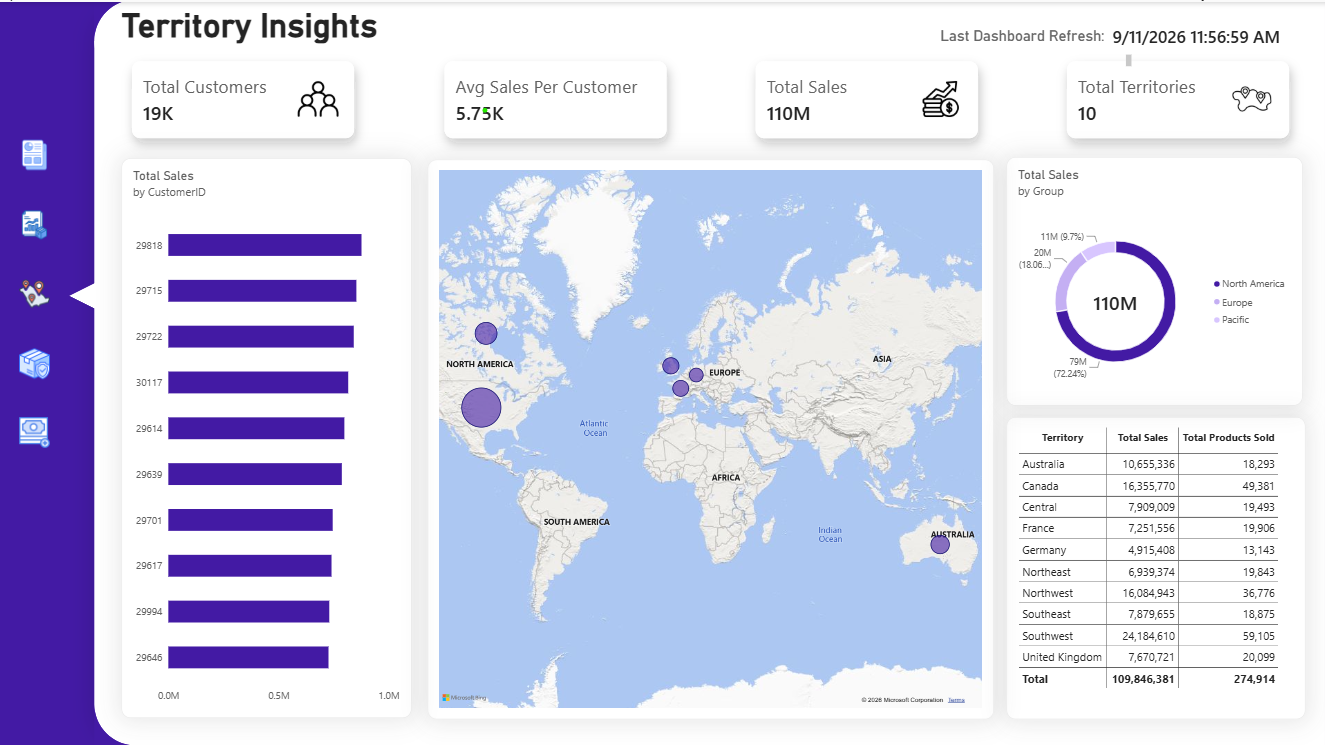

The dashboard page shown, as its layout file describes it:
{"tool":"powerbi","page":{"name":"Territory Insights","canvas":[1920,1080],"ordinal":2},"visuals":[{"type":"cardVisual","fields":{"Data":["DAX_Measures.Total Sales"]},"box":[1071,61.9,370,160],"z":0},{"type":"cardVisual","fields":{"Data":["DAX_Measures.Total Customers"]},"box":[169,61.7,370,160.3],"z":1000},{"type":"cardVisual","fields":{"Data":["DAX_Measures.Avg Sales Per Customer"]},"box":[620,61.9,370,160],"z":2000},{"type":"clusteredBarChart","fields":{"Category":["Orders.CustomerID"],"Y":["DAX_Measures.Total Sales"]},"box":[177.3,226.2,419.8,810.7],"z":3000},{"type":"cardVisual","fields":{"Data":["DAX_Measures.Total Territories"]},"box":[1521.9,61.9,370,160],"z":4000},{"type":"map","fields":{"Category":["Territories.CountryRegionCode"],"Size":["DAX_Measures.Total Sales"]},"box":[620.7,228,819.8,810.7],"z":5000},{"type":"donutChart","fields":{"Category":["Territories.Group"],"Y":["DAX_Measures.Total Sales"]},"box":[1458.6,224.4,428.9,360.1],"z":6000},{"type":"tableEx","fields":{"Values":["Territories.Territory","DAX_Measures.Total Sales","DAX_Measures.Total Products Sold"]},"box":[1458.6,600.8,432.5,437.9],"z":7000},{"type":"image","box":[29,199.1,45,45],"z":8000},{"type":"image","box":[29,299.5,45,45],"z":9000},{"type":"image","box":[29,399.9,45,45],"z":10000},{"type":"image","box":[29,500.4,45,45],"z":11000},{"type":"image","box":[29,600.8,45,45],"z":12000},{"type":"textbox","title":"Territory Insights","box":[177.3,5.4,693.1,56.1],"z":13000},{"type":"textbox","title":"Last Dashboard Refresh:","box":[1362.7,36.2,276.9,57.9],"z":14000},{"type":"cardVisual","fields":{"Data":["DAX_Measures.System Time"]},"box":[1596.1,34.4,323.9,30.8],"z":15000},{"type":"shape","box":[101.3,405.4,40,40],"z":15002},{"type":"image","box":[421.7,110.4,80,60],"z":15003},{"type":"image","box":[1322.9,110.4,80,60],"z":15005},{"type":"image","box":[1773.5,110.4,80,60],"z":15006}]}

Visuals, with their boxes on the page's 1920x1080 design canvas (x1, y1, x2, y2). These are canvas units, not pixel positions in the 1325x745 screenshot, which may show the page scaled, cropped or inside an application window:
cardVisual - DAX_Measures.Total Sales: (x1=1071, y1=62, x2=1441, y2=222)
cardVisual - DAX_Measures.Total Customers: (x1=169, y1=62, x2=539, y2=222)
cardVisual - DAX_Measures.Avg Sales Per Customer: (x1=620, y1=62, x2=990, y2=222)
clusteredBarChart - Orders.CustomerID x DAX_Measures.Total Sales: (x1=177, y1=226, x2=597, y2=1037)
cardVisual - DAX_Measures.Total Territories: (x1=1522, y1=62, x2=1892, y2=222)
map - Territories.CountryRegionCode x DAX_Measures.Total Sales: (x1=621, y1=228, x2=1440, y2=1039)
donutChart - Territories.Group x DAX_Measures.Total Sales: (x1=1459, y1=224, x2=1888, y2=584)
tableEx - Territories.Territory x DAX_Measures.Total Sales: (x1=1459, y1=601, x2=1891, y2=1039)
image: (x1=29, y1=199, x2=74, y2=244)
image: (x1=29, y1=300, x2=74, y2=344)
image: (x1=29, y1=400, x2=74, y2=445)
image: (x1=29, y1=500, x2=74, y2=545)
image: (x1=29, y1=601, x2=74, y2=646)
"Territory Insights" textbox: (x1=177, y1=5, x2=870, y2=62)
"Last Dashboard Refresh:" textbox: (x1=1363, y1=36, x2=1640, y2=94)
cardVisual - DAX_Measures.System Time: (x1=1596, y1=34, x2=1920, y2=65)
shape: (x1=101, y1=405, x2=141, y2=445)
image: (x1=422, y1=110, x2=502, y2=170)
image: (x1=1323, y1=110, x2=1403, y2=170)
image: (x1=1774, y1=110, x2=1854, y2=170)
